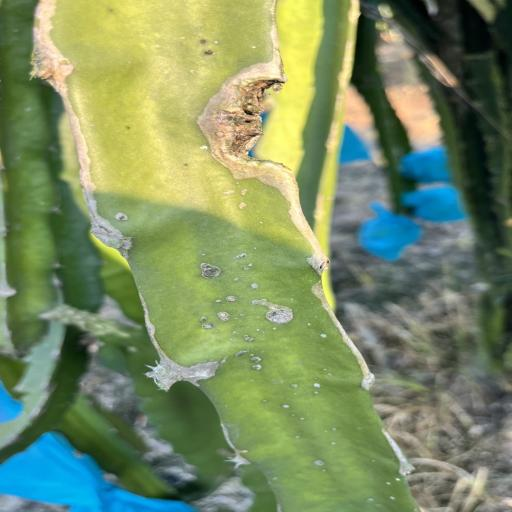stemcanker: (220, 183, 250, 213), (306, 456, 333, 474), (213, 329, 239, 342), (318, 366, 340, 378), (213, 294, 239, 304), (311, 381, 326, 397), (251, 327, 283, 333), (244, 262, 256, 273), (386, 494, 400, 502), (260, 398, 273, 406), (250, 282, 263, 290), (362, 496, 376, 503), (354, 424, 368, 431), (212, 38, 224, 46), (255, 219, 271, 225), (329, 426, 342, 433), (249, 44, 264, 50), (297, 415, 308, 423), (280, 401, 291, 409), (303, 321, 315, 328), (392, 477, 405, 483), (293, 433, 304, 440), (318, 334, 330, 340), (270, 476, 281, 482), (289, 382, 300, 388), (327, 440, 336, 447), (231, 276, 241, 282), (199, 252, 211, 257), (370, 458, 378, 465), (383, 482, 392, 488), (252, 246, 262, 251)
